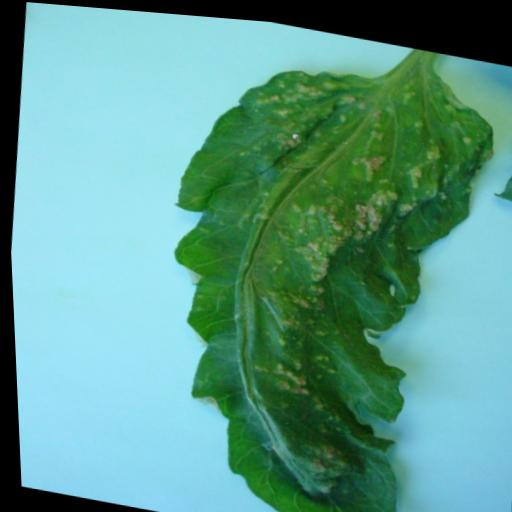Leaf Mold: (135, 34, 510, 512)
